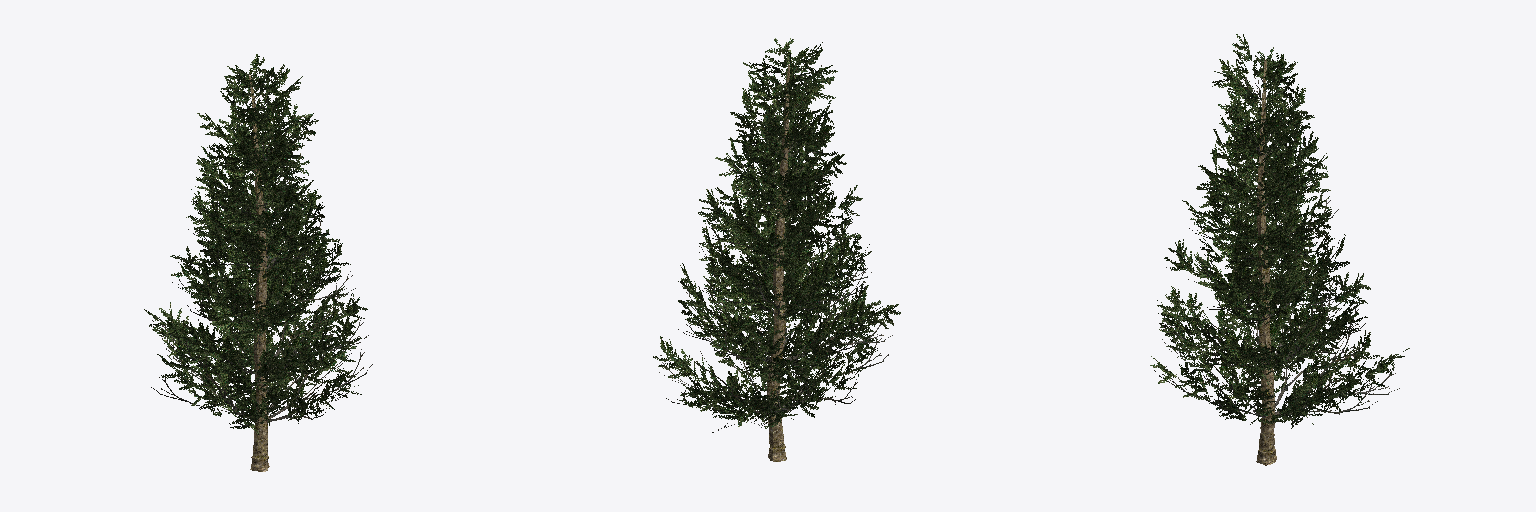
The picture shows the model from 3 angles: view 1: azimuth 30°, elevation 25°; view 2: azimuth 150°, elevation 25°; view 3: azimuth 270°, elevation 25°; orthographic projection.
Visible parts, largest first — view 1: fir; view 2: fir; view 3: fir.
Boxes of the visible parts, <box> form: fir: <box>144,54,372,471</box>; fir: <box>653,38,900,461</box>; fir: <box>1150,34,1409,465</box>.
Size of the model in its own units: 4.76 by 8.98 by 5.2.
Materials: 5 (4 with a texture image).